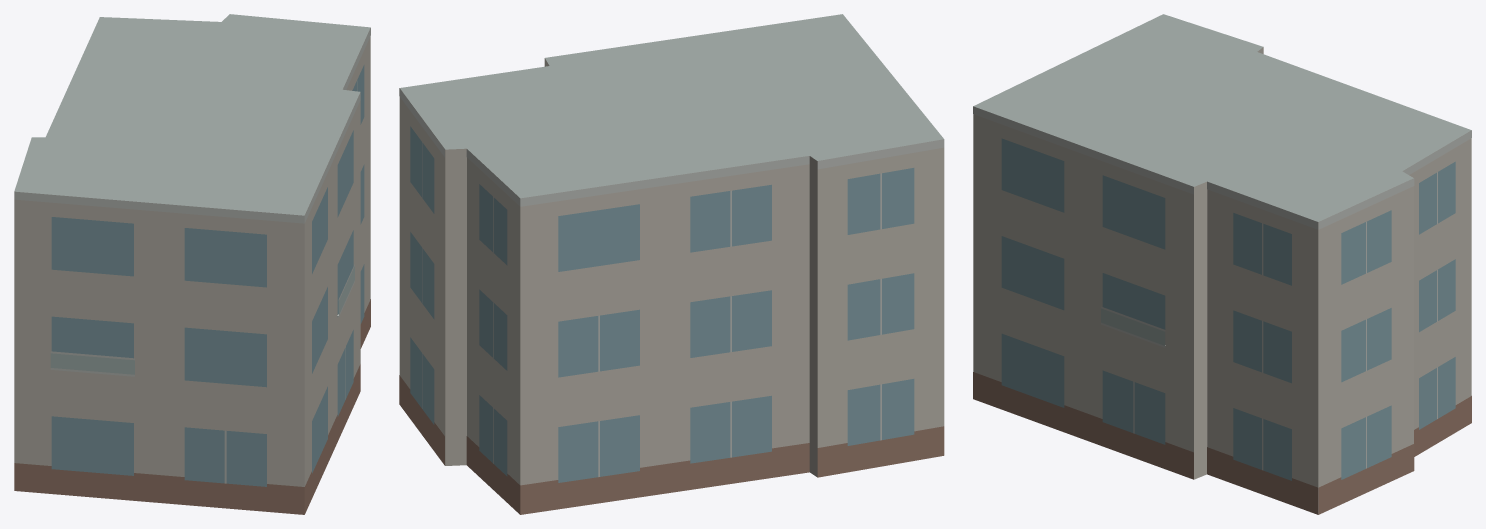
The model's file is survey-upis-32605474.glb.
3 renders of one model, left to right at view 1: azimuth 30°, elevation 25°; view 2: azimuth 150°, elevation 25°; view 3: azimuth 270°, elevation 25°, orthographic. The views are drawn at different scales.
Visible parts, largest first — view 1: survey-upis-32605474.tmp; view 2: survey-upis-32605474.tmp; view 3: survey-upis-32605474.tmp.
Part boxes in pixels (x1,y1,x2,y2): survey-upis-32605474.tmp: (14, 14, 370, 514); survey-upis-32605474.tmp: (399, 14, 944, 514); survey-upis-32605474.tmp: (973, 14, 1471, 514).
Size of the model in its own units: 13.95 by 9.15 by 14.13.
